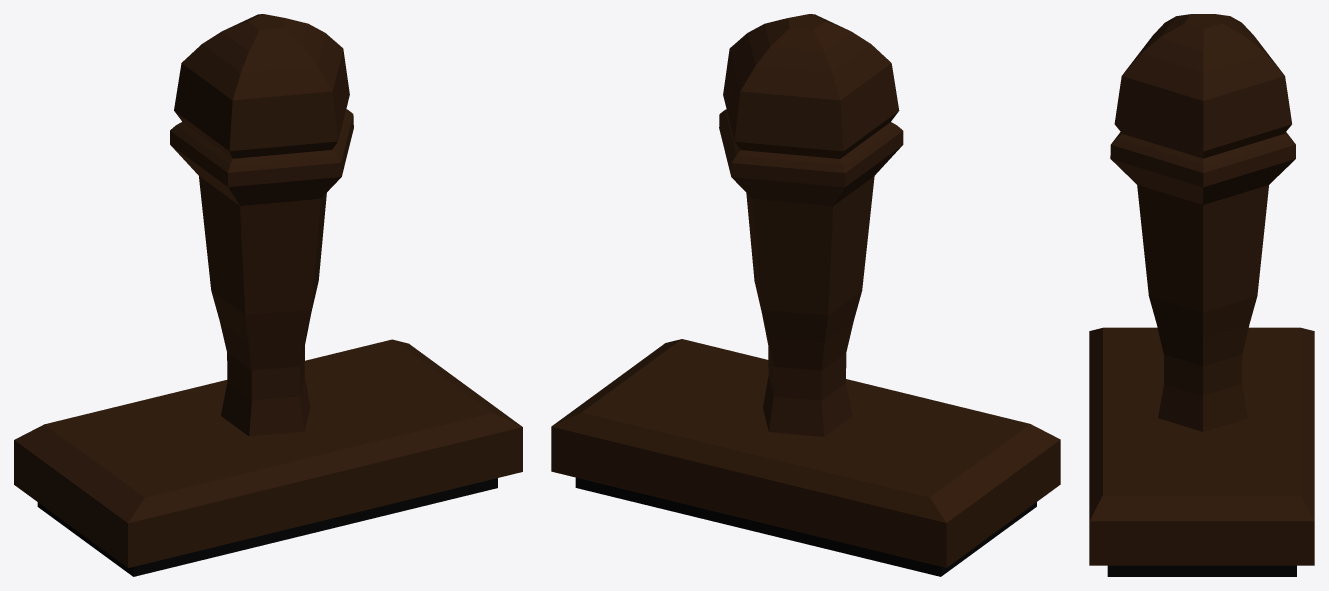
Rendered from stamp.FBX.
3 renders of one model, left to right at view 1: azimuth 30°, elevation 25°; view 2: azimuth 150°, elevation 25°; view 3: azimuth 270°, elevation 25°, orthographic.
Visible parts, largest first — view 1: Cylinder002; view 2: Cylinder002; view 3: Cylinder002.
Part boxes in pixels (bbox=[...]): Cylinder002: bbox=[14, 14, 522, 576]; Cylinder002: bbox=[551, 14, 1060, 576]; Cylinder002: bbox=[1089, 14, 1314, 576].
Size of the model in its own units: 802 by 401 by 921.
